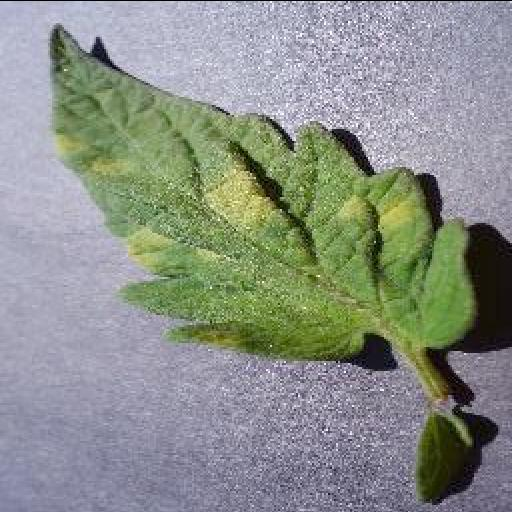disease_tomato: (46, 24, 474, 358)
